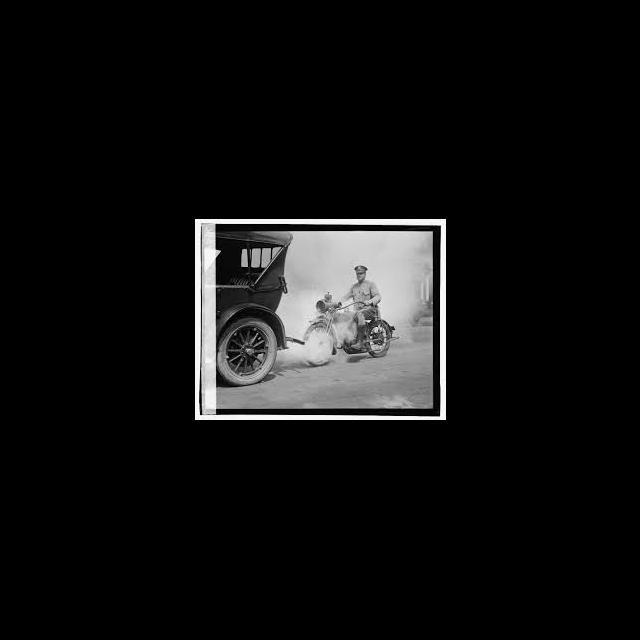Smoke: (286, 232, 426, 361)
